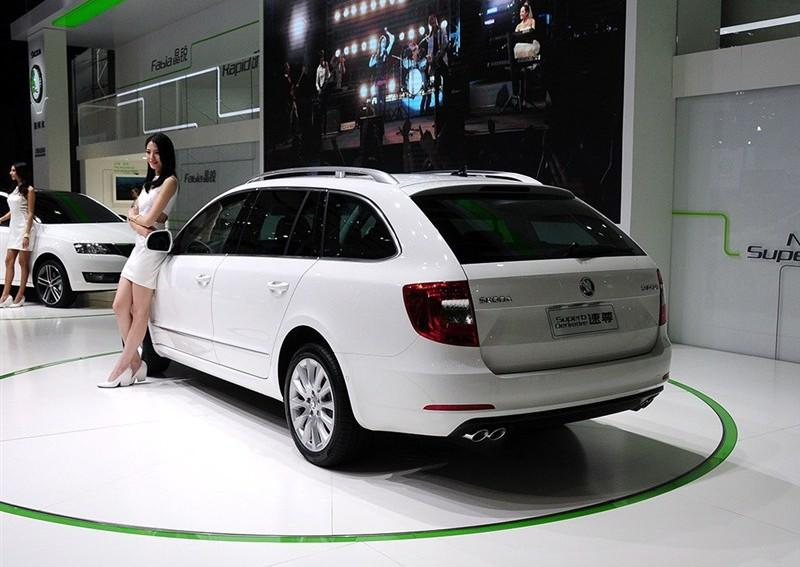Wagon: (136, 165, 673, 467)
